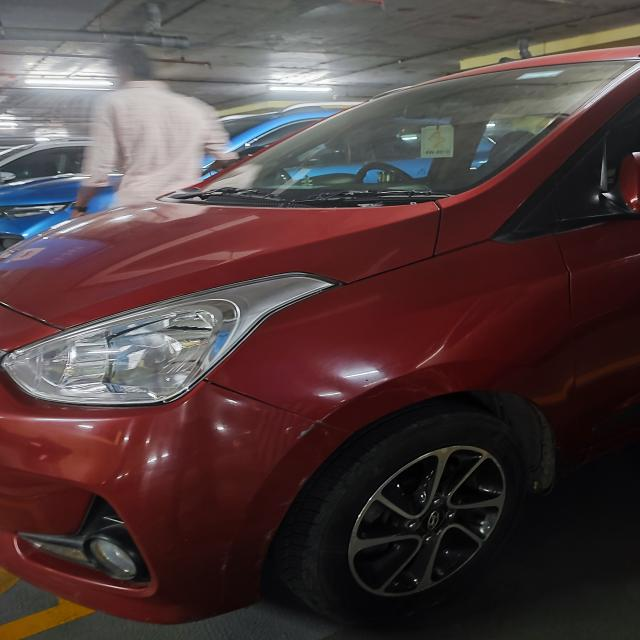scratch: (282, 398, 370, 447)
